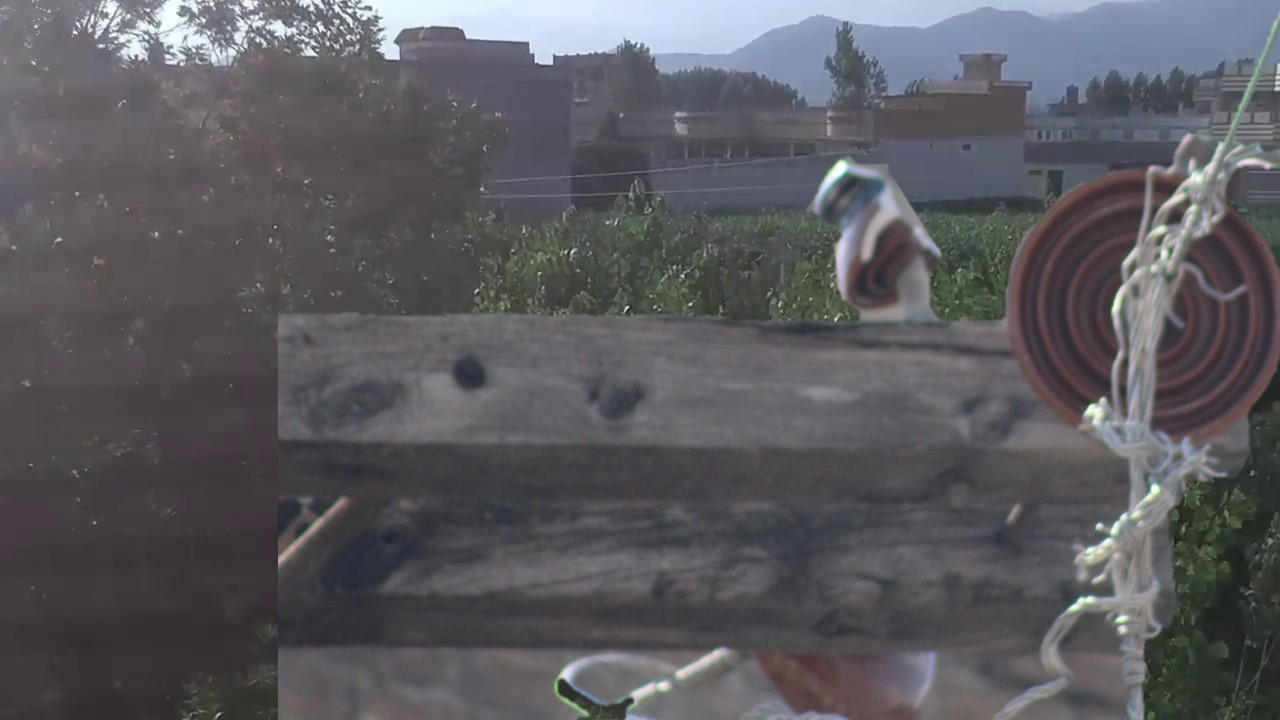defect_pin: (807, 151, 951, 321)
insulator_disc: (1003, 165, 1273, 459)
